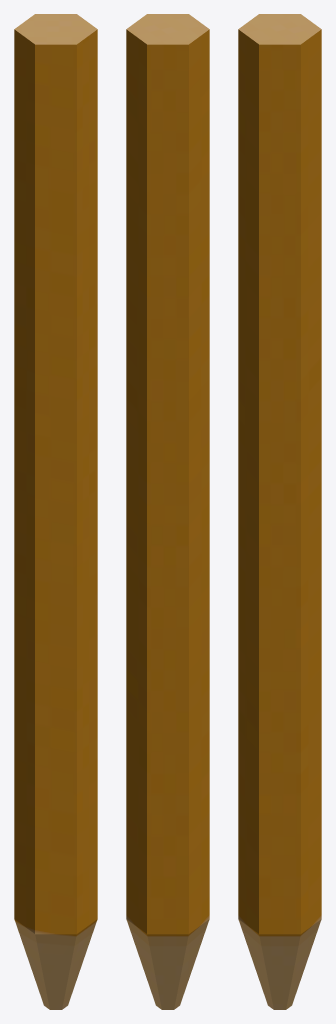
Rendered from SM_Pencil.fbx.
3 renders of one model, left to right at view 1: azimuth 30°, elevation 25°; view 2: azimuth 150°, elevation 25°; view 3: azimuth 330°, elevation 25°, orthographic.
Visible parts, largest first — view 1: SM_Pencil; view 2: SM_Pencil; view 3: SM_Pencil.
Boxes of the visible parts, x1,y1,x2,y2 form: SM_Pencil: (14,14,97,1009); SM_Pencil: (126,14,209,1009); SM_Pencil: (238,14,321,1009).
Size of the model in its own units: 0.7504 by 11.19 by 0.8663.
